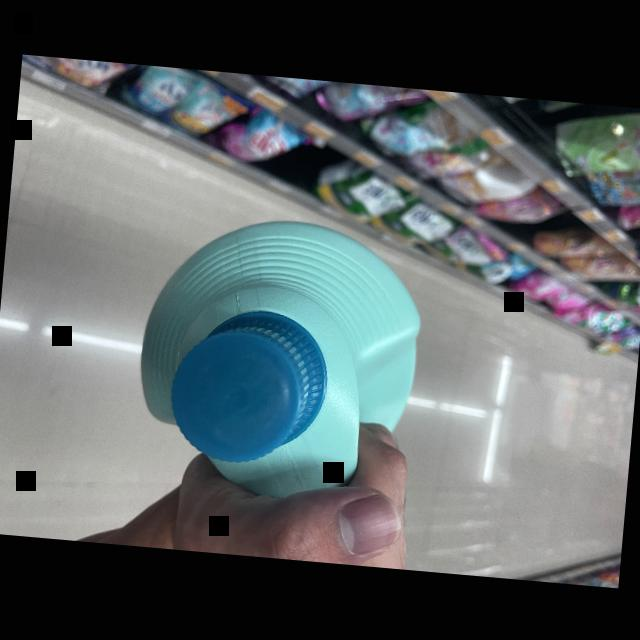chemical_plastic_bottle: (119, 200, 440, 519)
